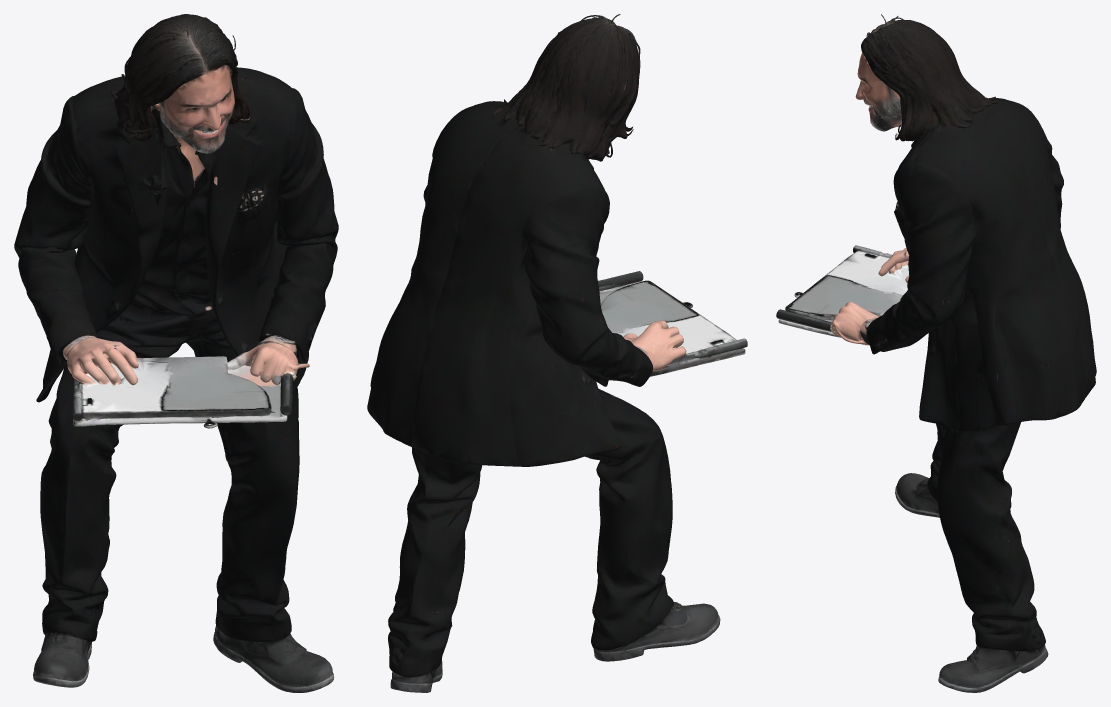
The model's file is adani-mini.glb.
3 views of the same model, side by side, from view 1: azimuth 30°, elevation 25°; view 2: azimuth 150°, elevation 25°; view 3: azimuth 270°, elevation 25° (orthographic). The views are drawn at different scales.
Bounding box in the file's own units: 0.881 × 1.9 × 0.9135.
1 material, 1 textured.
